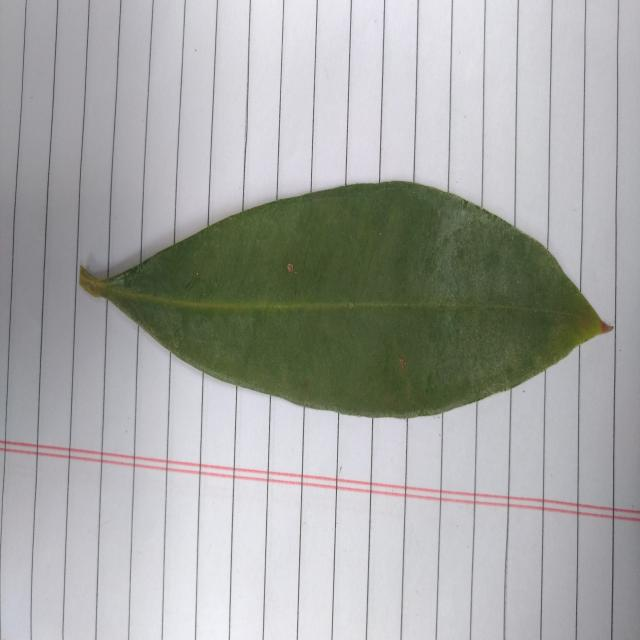nerale: (80, 182, 610, 418)
